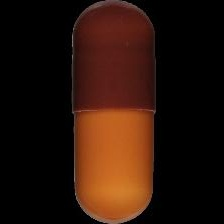0615-8012: (0, 0, 224, 224)
